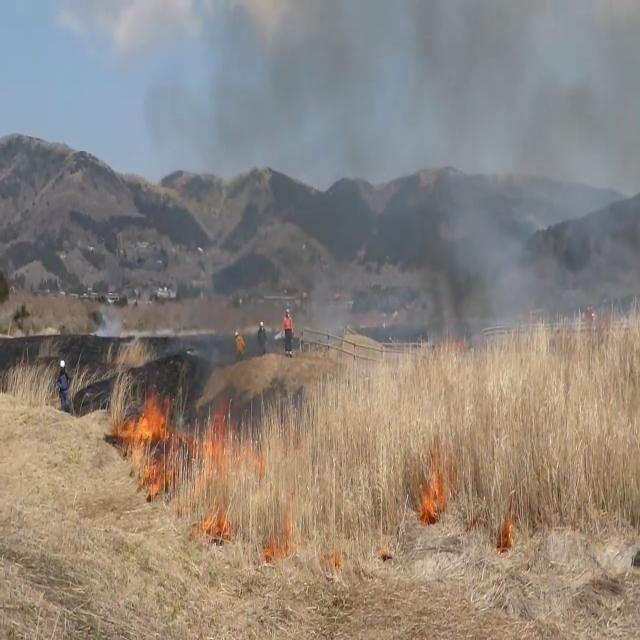Fire: (122, 384, 175, 472), (418, 437, 448, 522)
Smoke: (280, 1, 638, 355), (398, 2, 640, 350)
